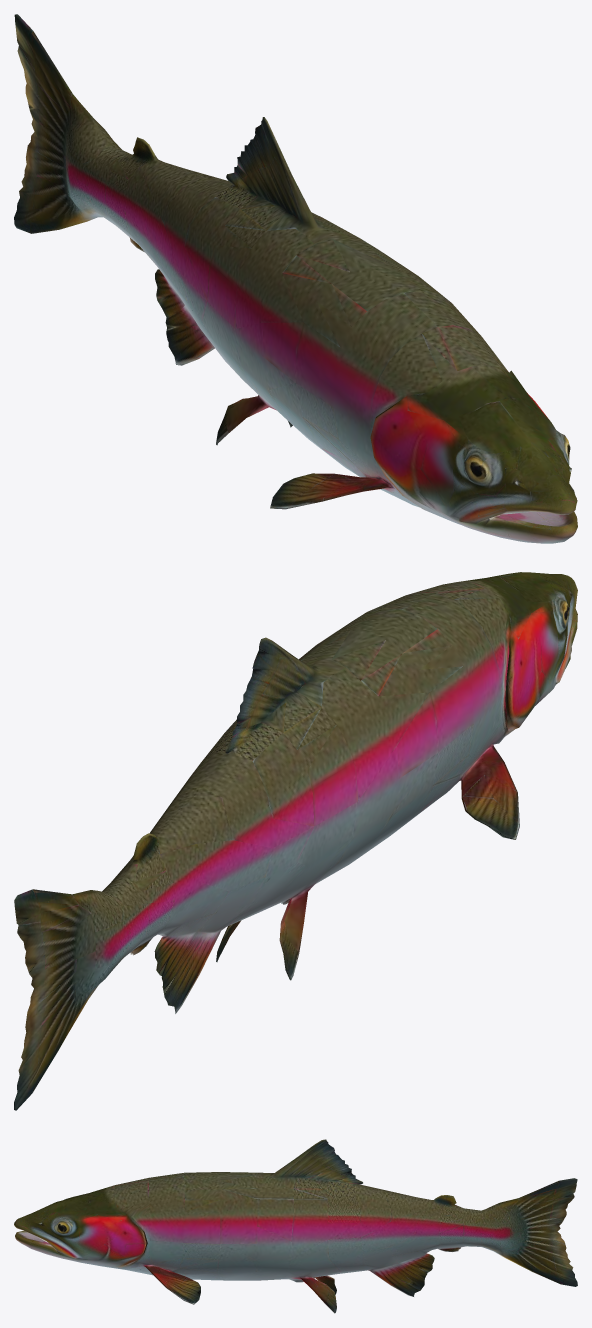
Rendered from river_trout.glb.
The picture shows the model from 3 angles, top to bottom: view 1: azimuth 30°, elevation 25°; view 2: azimuth 150°, elevation 25°; view 3: azimuth 270°, elevation 25°; orthographic projection. The views are drawn at different scales.
Bounding box in the file's own units: 0.2437 × 0.3081 × 0.9536.
1 material, 1 textured.
